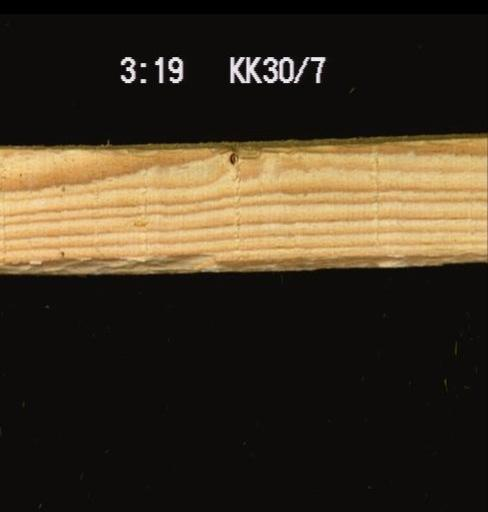dry_knot: (223, 146, 245, 168)
wave: (0, 238, 486, 279)
